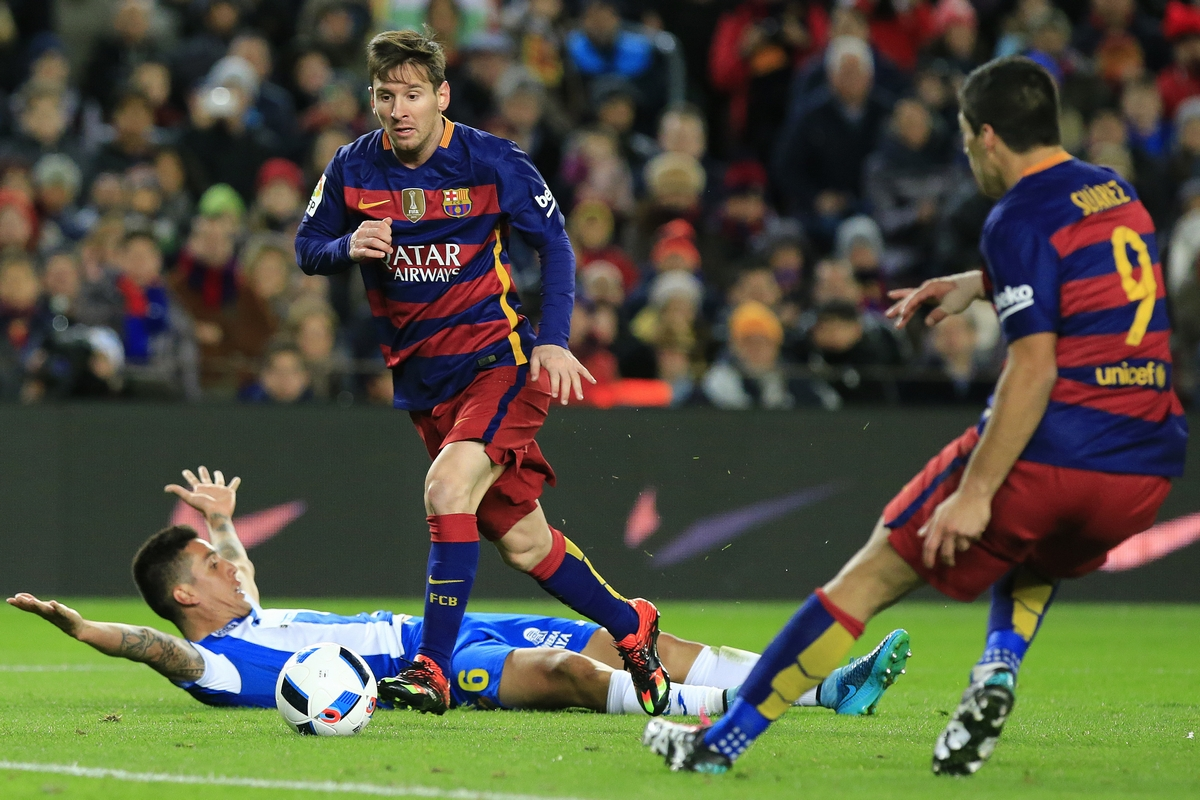10+: (1, 1, 1197, 778)
down: (29, 439, 939, 755)
